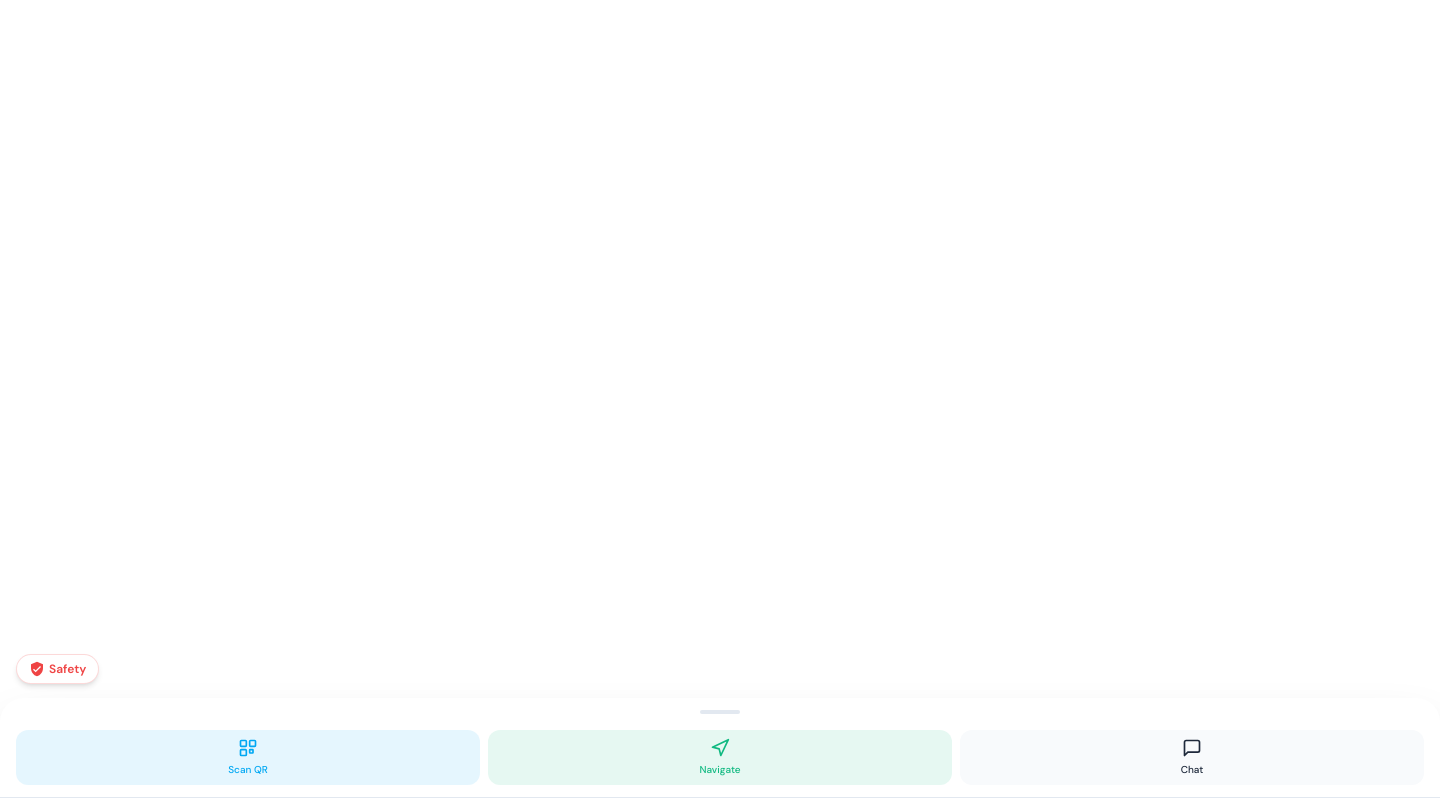
Scenario: JourneyDrawer › expands on drag handle click and shows driver info for rider
Click the element with class "cursor-grab" at x=720, y=712, box left=700, top=710, right=740, bottom=714
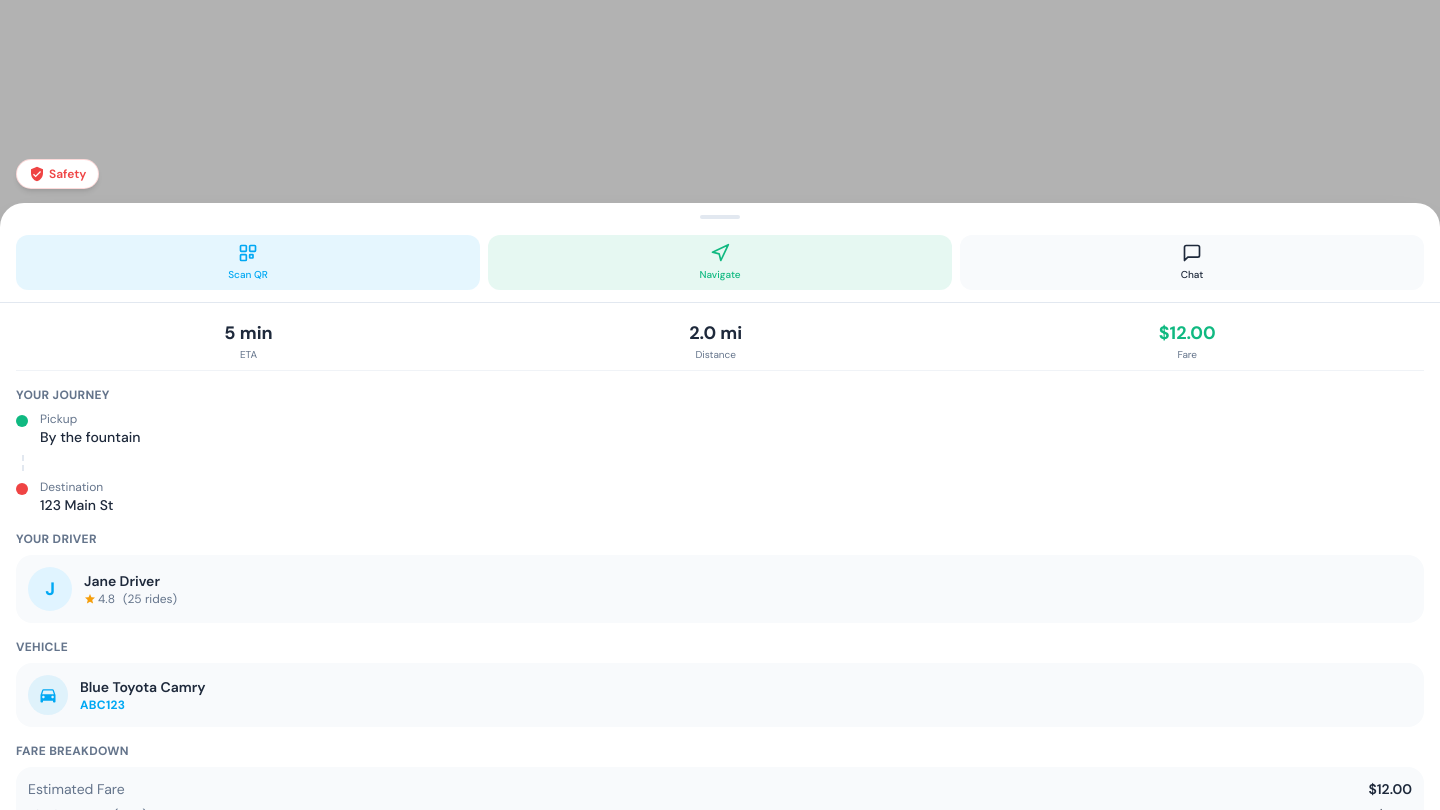
Expected: the element with test id "drawer-backdrop" is shown
Expected: the heading "Your Driver" is shown, left=16, top=530, right=97, bottom=546
Expected: the text "Jane Driver" is shown, left=84, top=572, right=160, bottom=590
